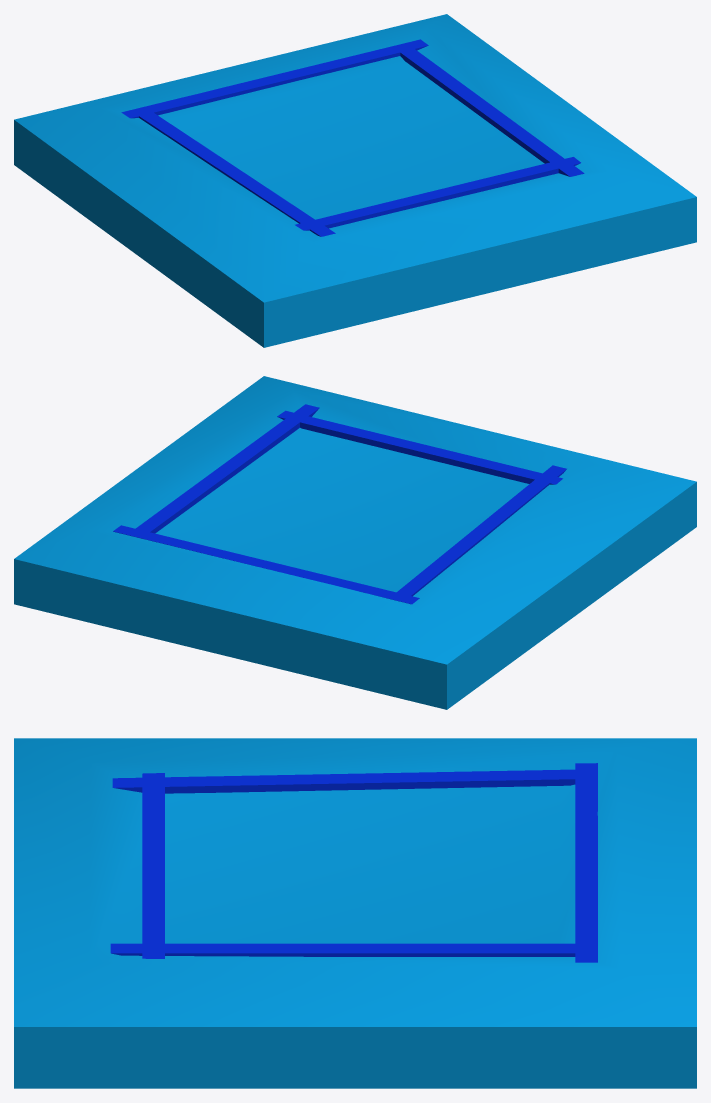
Rendered from p_trigger_1.fbx.
The picture shows the model from 3 angles, top to bottom: view 1: azimuth 30°, elevation 25°; view 2: azimuth 150°, elevation 25°; view 3: azimuth 270°, elevation 25°; orthographic projection. The views are drawn at different scales.
Parts seen in each view (by area): view 1: pCube7; view 2: pCube7; view 3: pCube7.
Part boxes in pixels (x1,y1,x2,y2): pCube7: (14, 14, 696, 347); pCube7: (14, 376, 696, 709); pCube7: (14, 738, 696, 1088).
Size of the model in its own units: 100 by 14.25 by 100.
